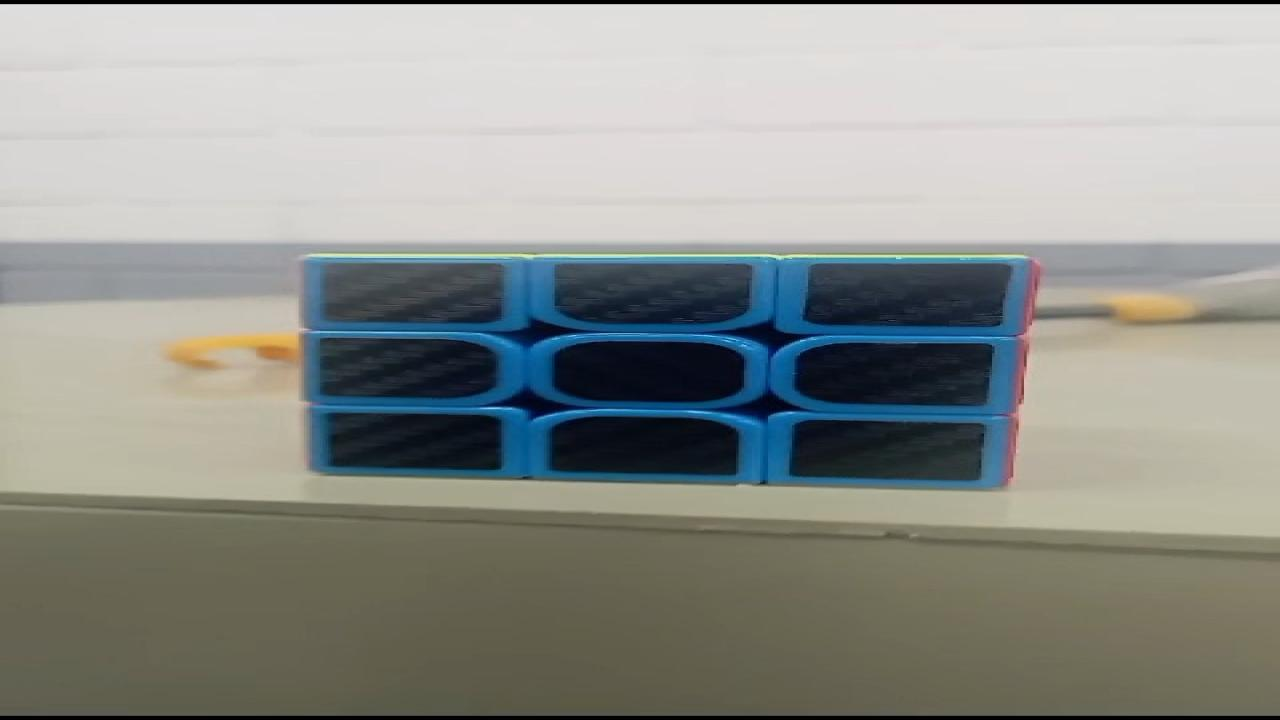Cube: (291, 251, 1042, 491)
